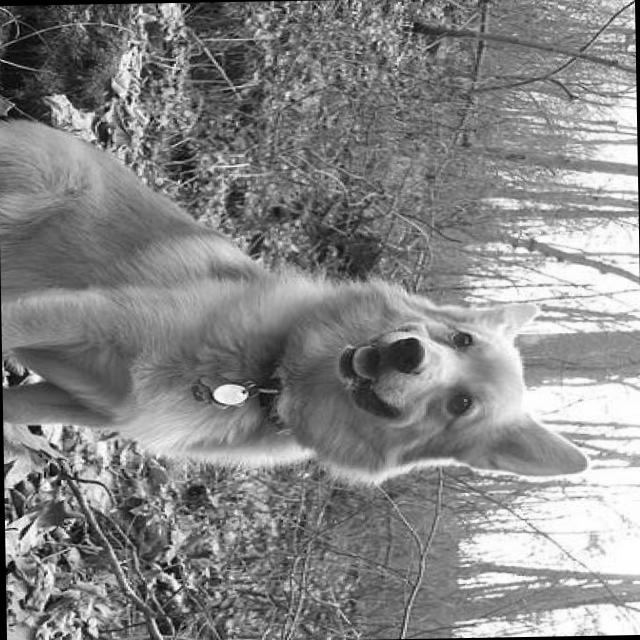sitting: (0, 96, 594, 504)
